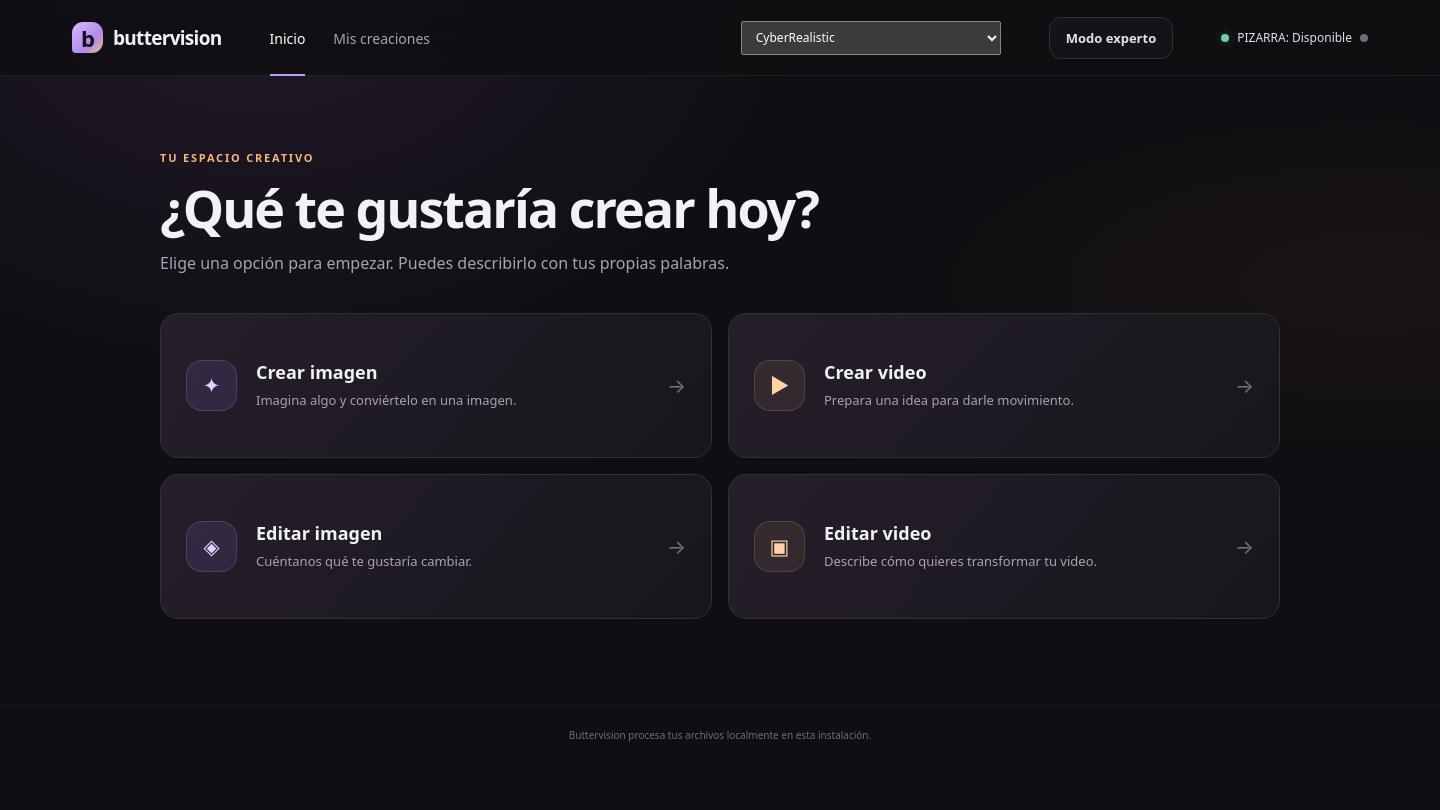
Test: Buttervision UX › cierra PIZARRA al navegar y mantiene el selector global disponible
Step 1. Click the button "PIZARRA: Disponible" → click(1295, 38), box [1221,19,1368,56]
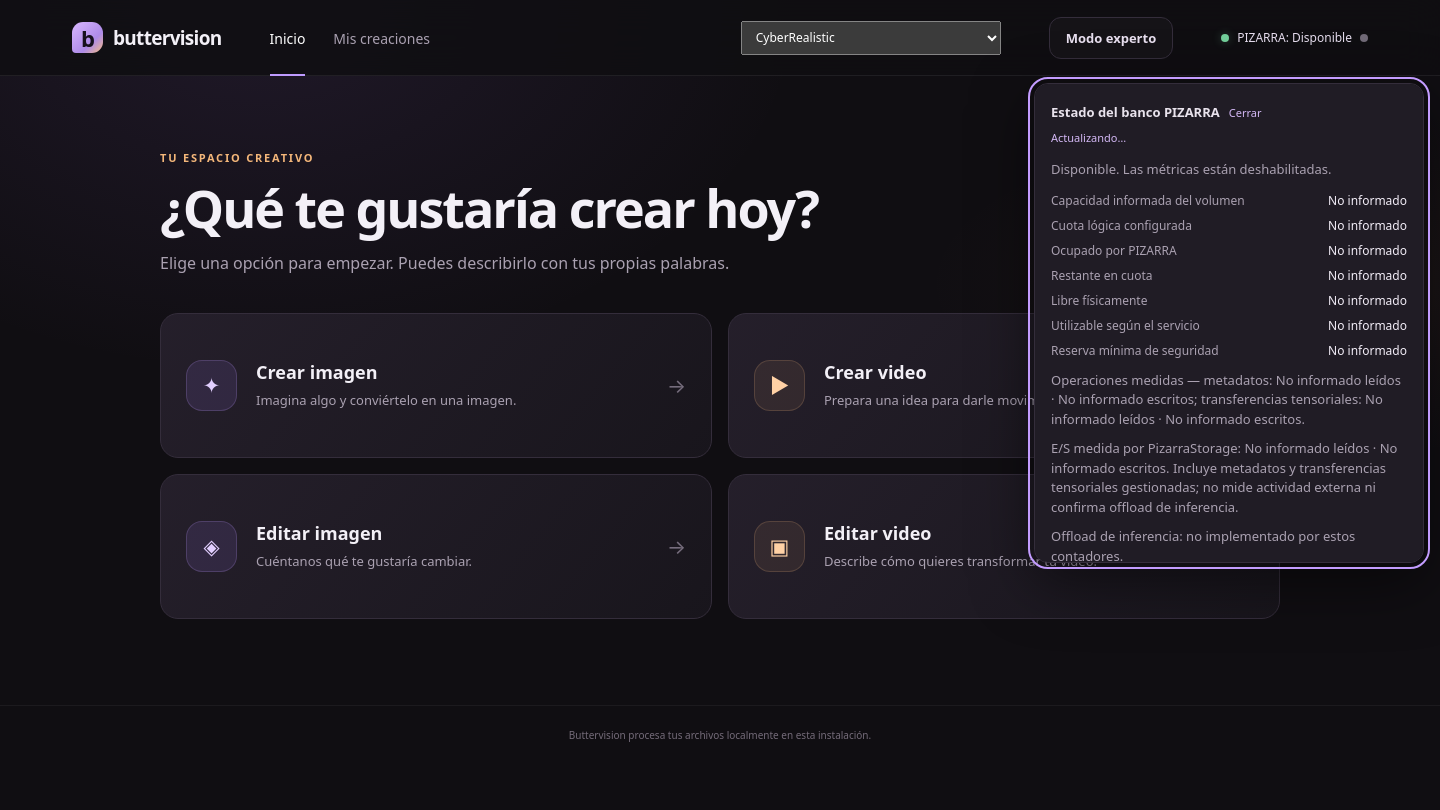
expect the dialog "Estado del banco PIZARRA" is shown: met, box [1034,83,1424,563]
Step 2. Click the button "Mis creaciones" → click(382, 38), box [333,0,430,75]
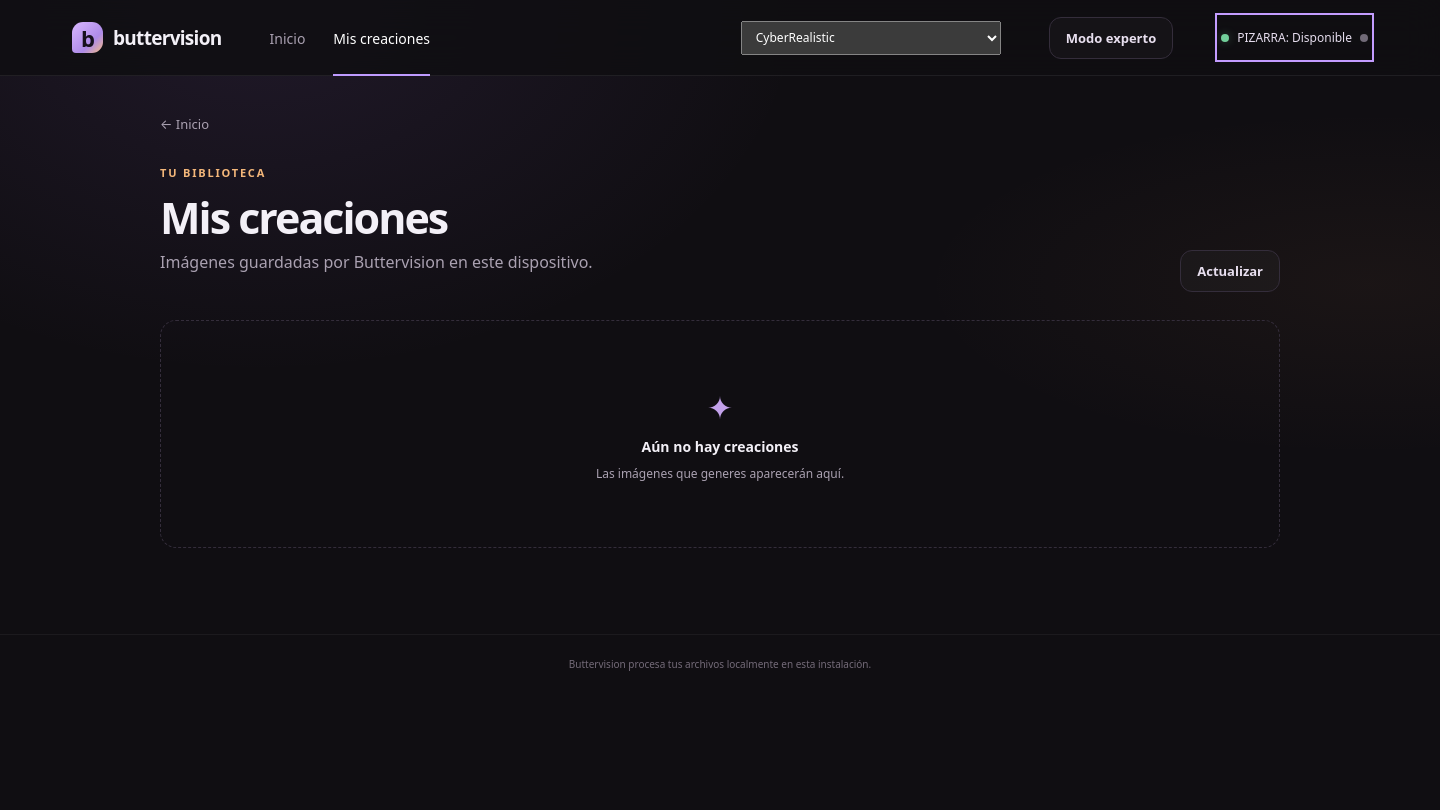
expect the dropdown named "Checkpoint registrado" is enabled: met, box [741,20,1001,54]
expect the text "Estado del banco PIZARRA" is gone: met
